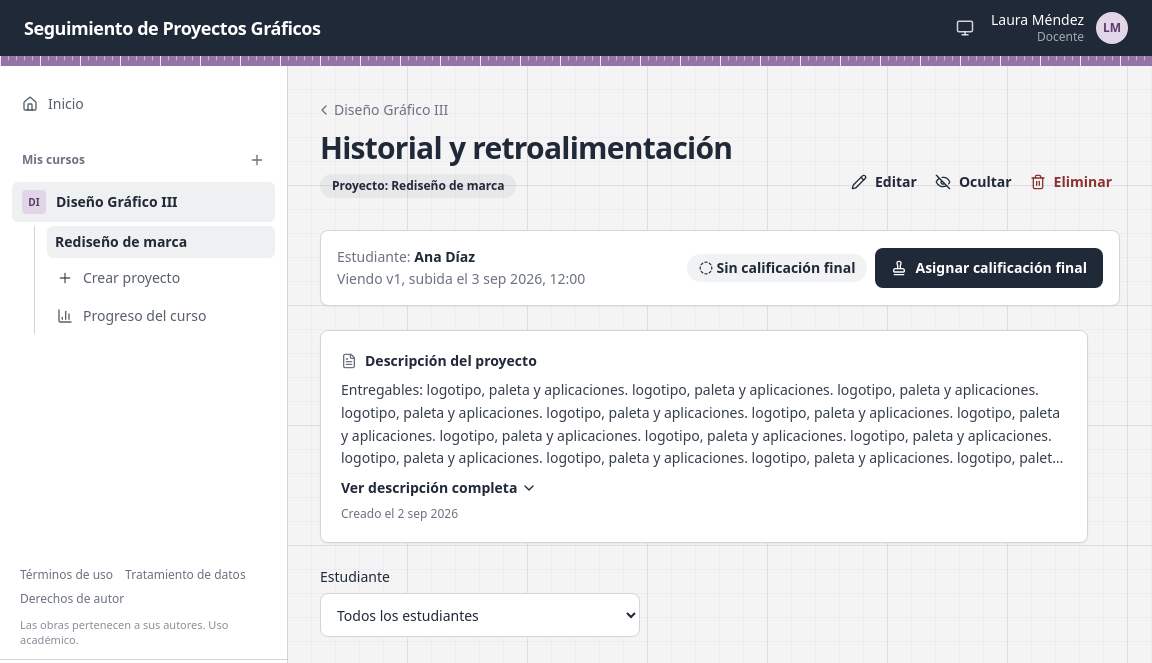
Test case: Descripción del proyecto › recorta una descripción larga y permite verla completa
What coordinates should you click on to do the following:
click the button "Ver descripción completa"
I would click on:
 (439, 488)
Its box is [341,478,537,498].
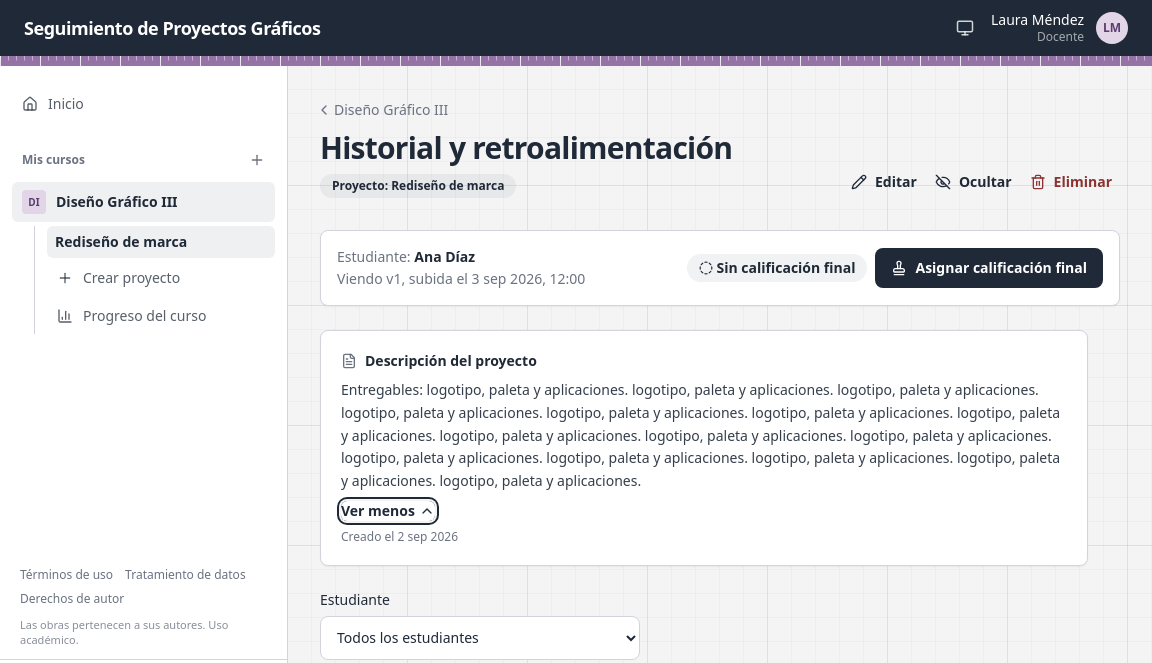
Result: the button "Ver menos" is expanded at [341,501,435,521]
